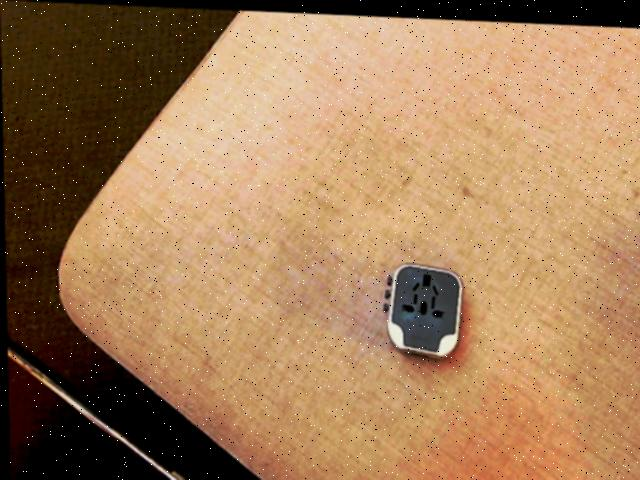adapter: (380, 258, 462, 355)
